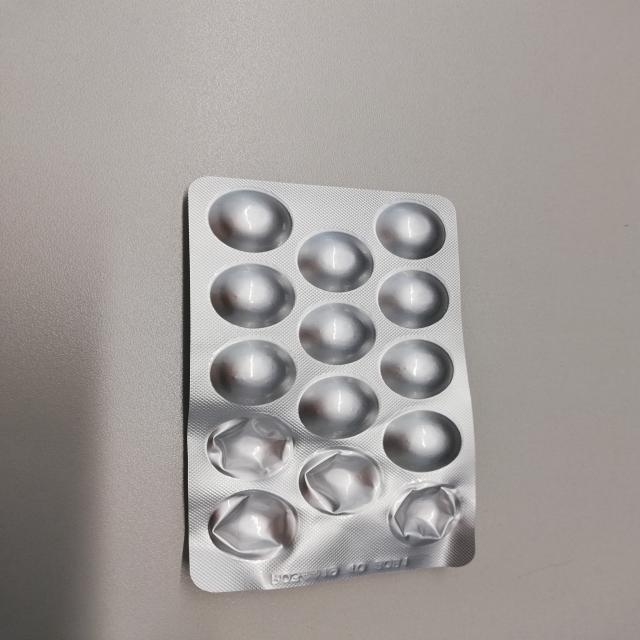Empty: (204, 489, 300, 563), (204, 411, 295, 484), (298, 446, 385, 516), (390, 479, 464, 548)
Pill: (206, 338, 296, 405), (207, 186, 295, 254), (210, 262, 295, 329), (299, 373, 380, 439), (382, 409, 463, 473), (295, 304, 378, 366), (298, 230, 374, 294), (373, 198, 449, 260), (378, 267, 452, 330), (382, 338, 456, 401)
